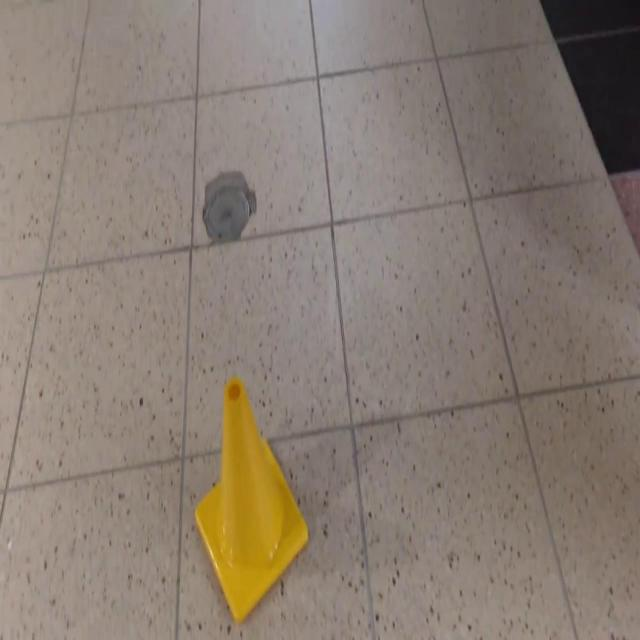frc_cone: (194, 378, 310, 625)
